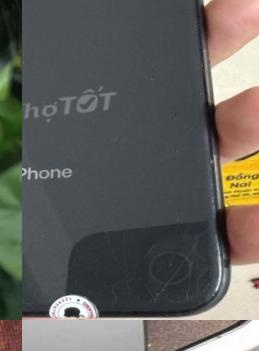scratch: (125, 218, 230, 316)
